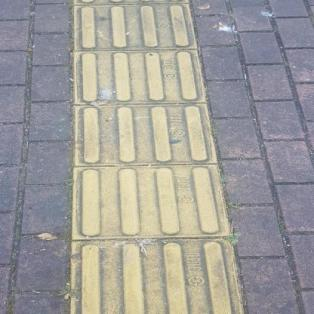Podoctatil: (61, 0, 256, 313)
